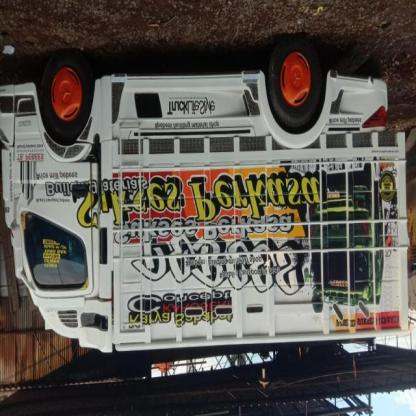truck: (1, 41, 411, 359)
